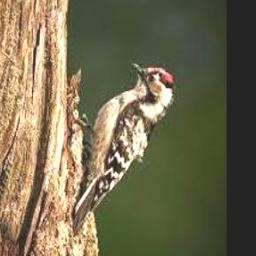Woodpecker: (74, 61, 176, 233)
